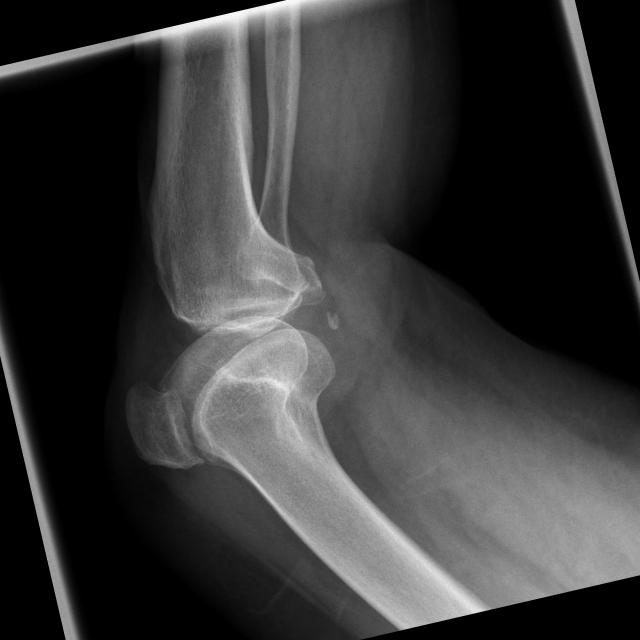Knee: (94, 234, 358, 483)
